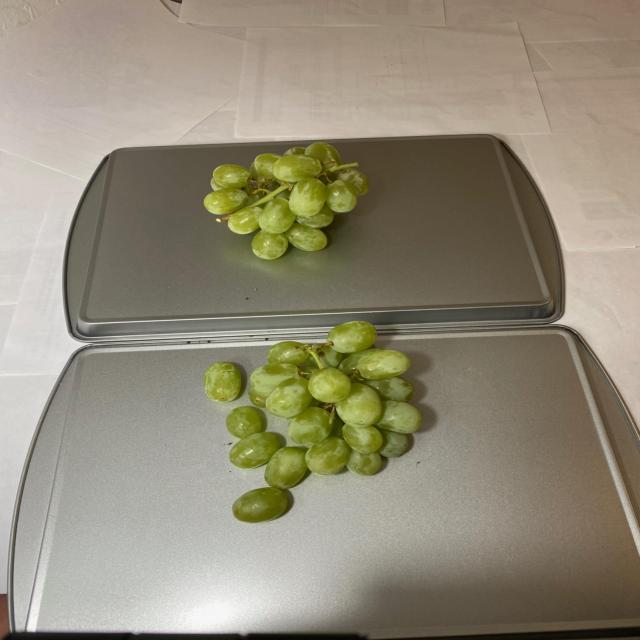Grapes: (206, 321, 431, 522), (206, 142, 368, 265)
